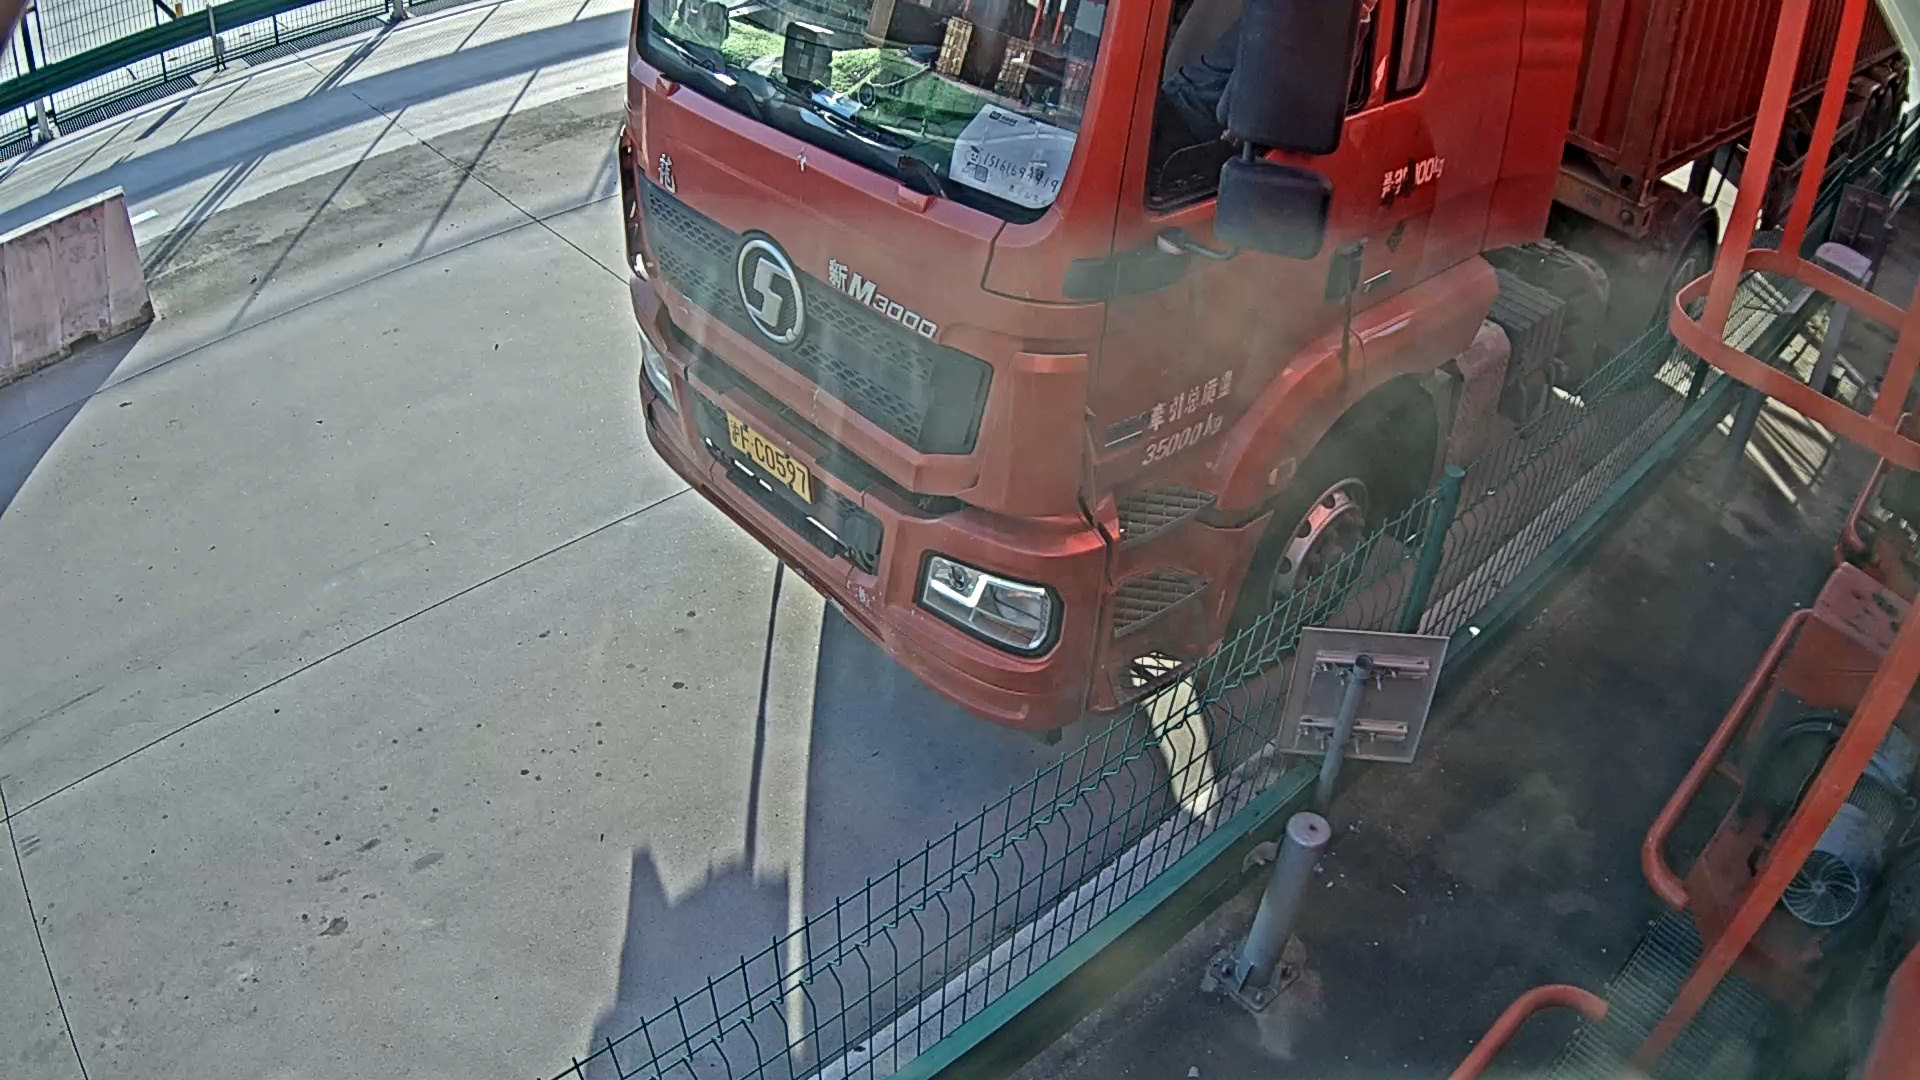head: (618, 4, 1463, 764)
plate: (713, 401, 835, 501)
